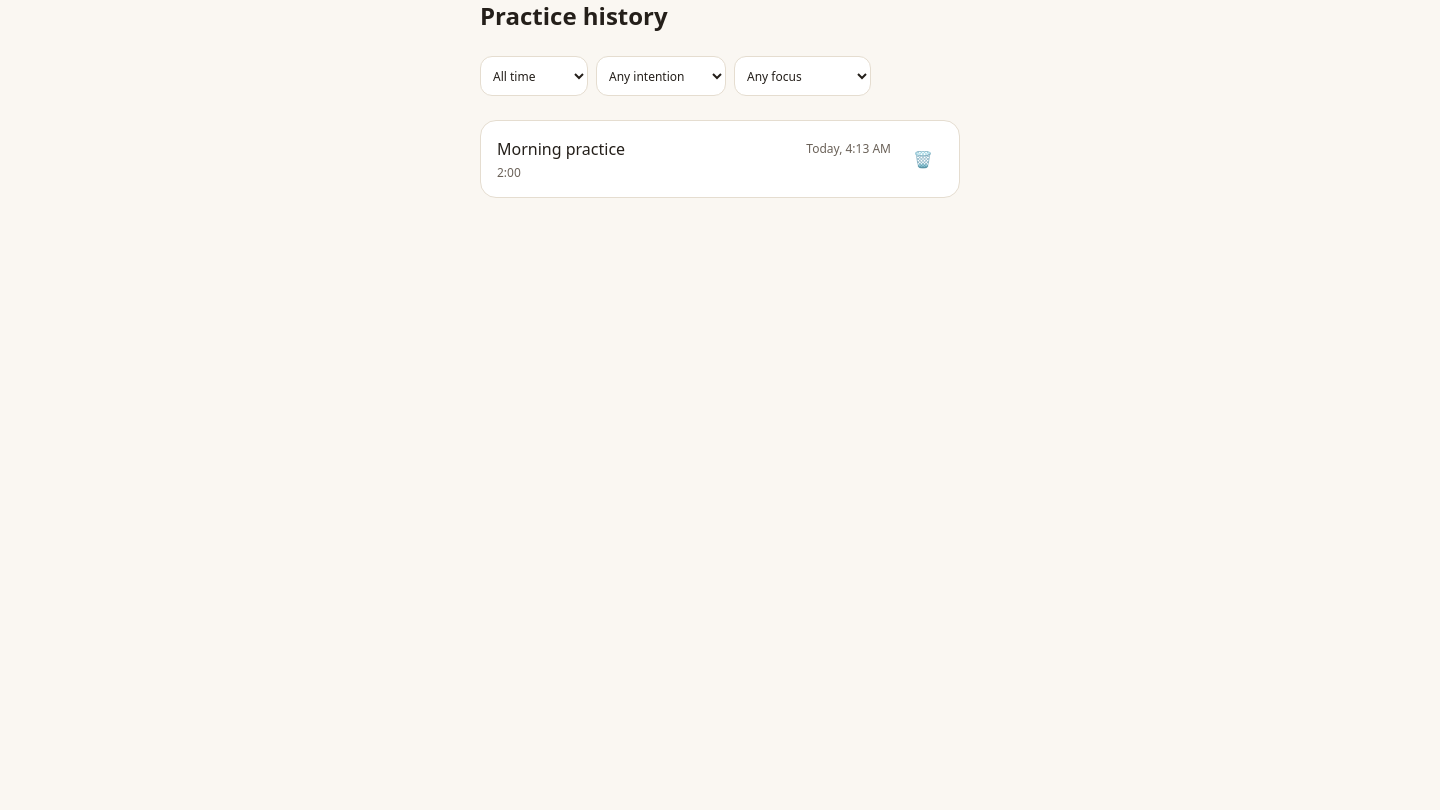
Test case: HistoryPage › deletes a session after confirming
expect the text "Morning practice" is shown: met, box [497, 137, 625, 161]
Click the button named "Delete Morning practice" at (923, 159), box [903, 139, 943, 179]
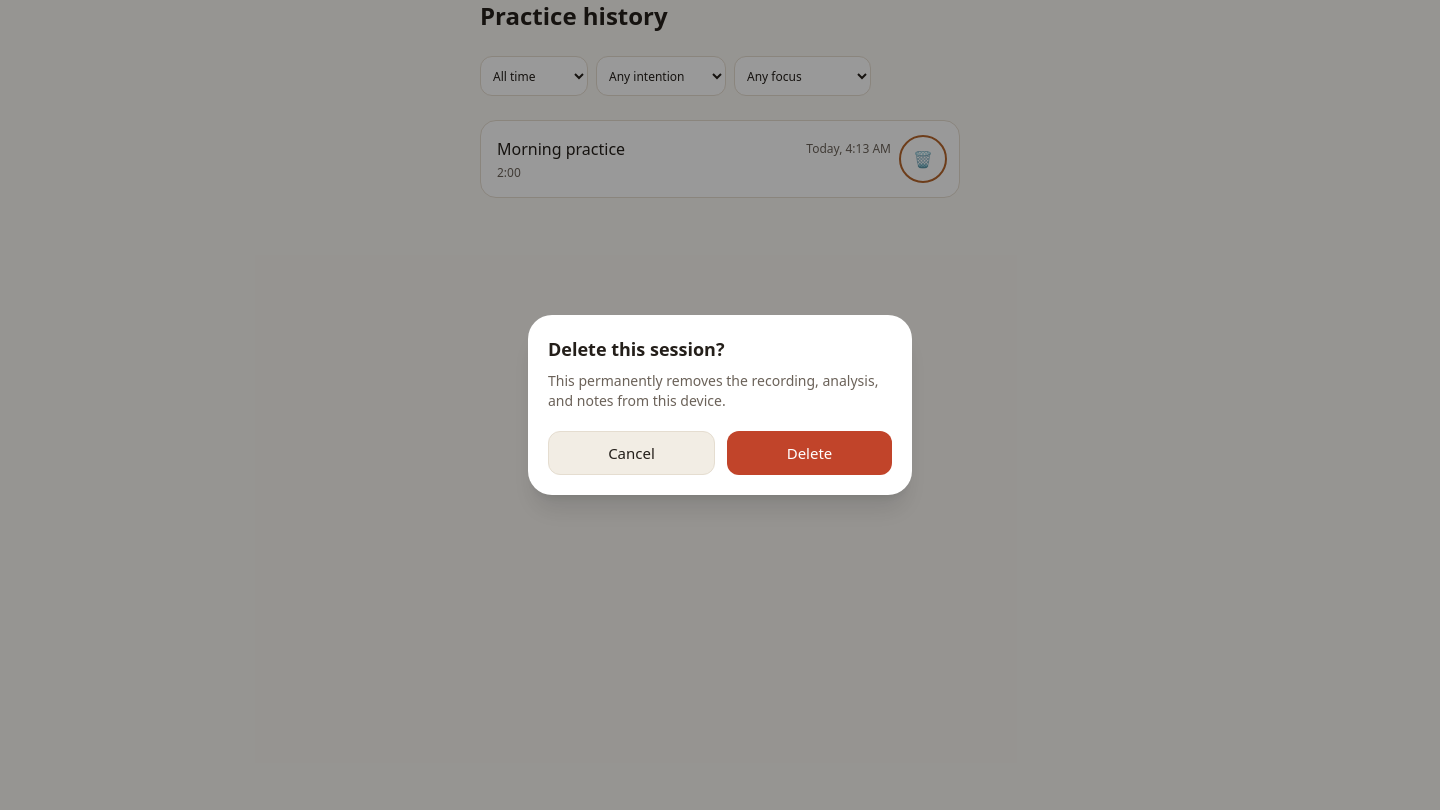
Click the button "Delete" at (810, 453), box [727, 431, 892, 475]
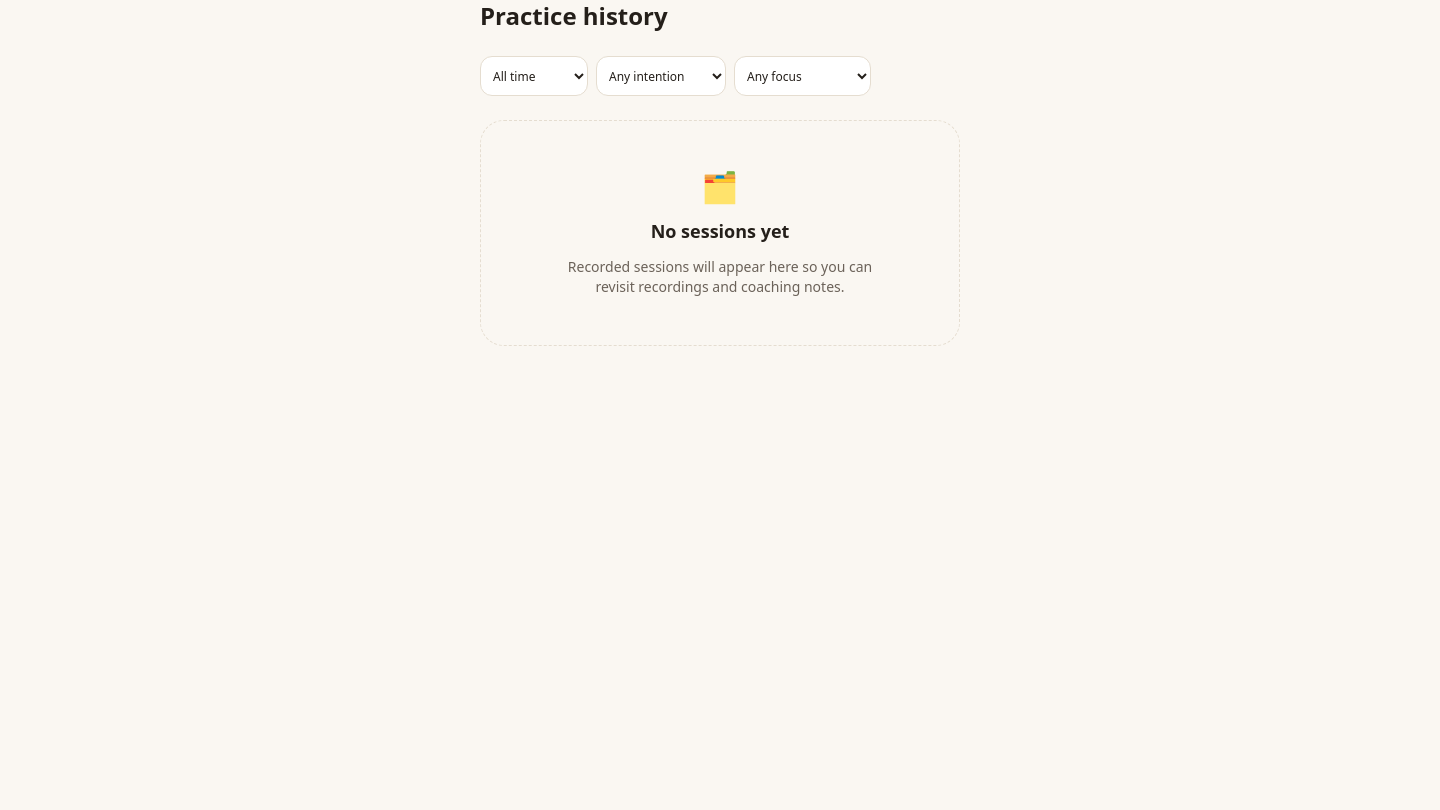
expect the link "Morning practice" is gone: met
